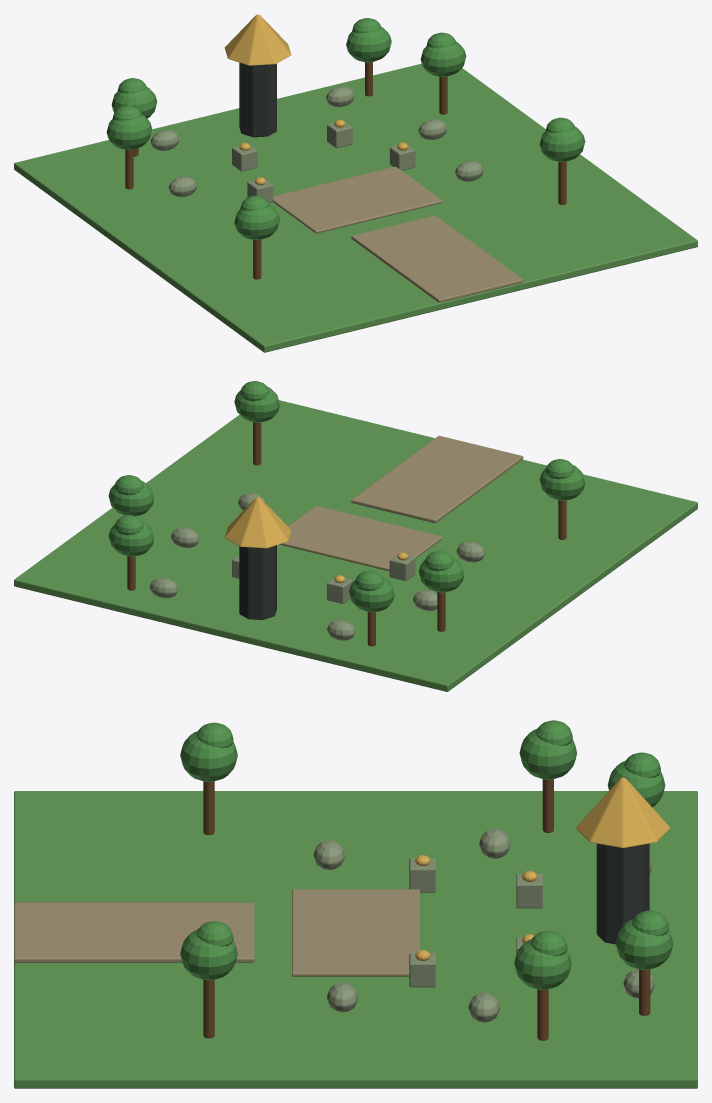
The model's file is chunk_boss_clearing.fbx.
3 views of the same model, one above another, from view 1: azimuth 30°, elevation 25°; view 2: azimuth 150°, elevation 25°; view 3: azimuth 270°, elevation 25° (orthographic). The views are drawn at different scales.
Visible parts, largest first — view 1: chunk_boss_clearing; view 2: chunk_boss_clearing; view 3: chunk_boss_clearing.
Boxes of the visible parts, x1,y1,x2,y2 form: chunk_boss_clearing: [14, 14, 697, 352]; chunk_boss_clearing: [14, 381, 697, 691]; chunk_boss_clearing: [14, 720, 697, 1088].
Bounding box in the file's own units: 256 × 69.12 × 256.
